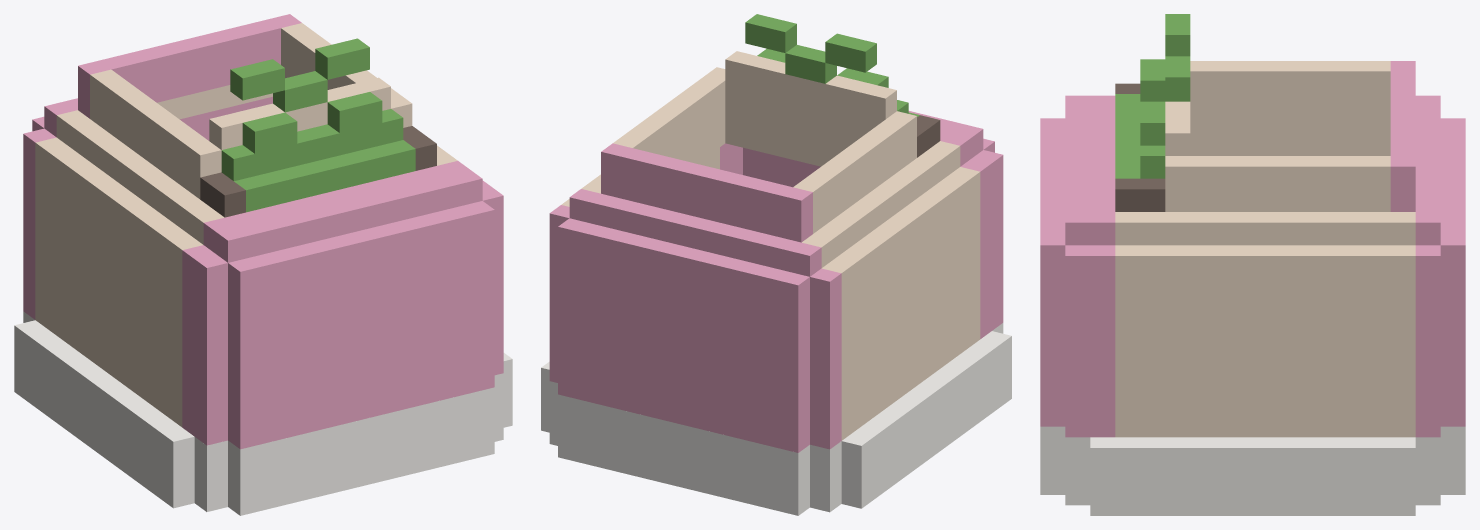
The model's file is angie-acc9.b2e07d89.glb.
3 renders of one model, left to right at view 1: azimuth 30°, elevation 25°; view 2: azimuth 150°, elevation 25°; view 3: azimuth 270°, elevation 25°, orthographic. The views are drawn at different scales.
Visible parts, largest first — view 1: puntera_talon, zapatilla, suela, cordones_brote, ojalillos; view 2: puntera_talon, zapatilla, suela, cordones_brote, ojalillos; view 3: zapatilla, puntera_talon, suela, cordones_brote, ojalillos.
Part boxes in pixels (x1,y1,x2,y2): puntera_talon: (23,14,503,449); zapatilla: (35,23,457,427); suela: (14,311,512,515); cordones_brote: (221,38,415,212); ojalillos: (200,126,436,217); puntera_talon: (549,111,1003,452); zapatilla: (561,51,980,440); suela: (541,323,1011,515); cordones_brote: (745,14,919,116); ojalillos: (917,115,940,157); zapatilla: (1115,61,1415,437); puntera_talon: (1040,61,1465,437); suela: (1040,426,1465,515); cordones_brote: (1115,14,1190,178); ojalillos: (1115,83,1165,211).
Size of the model in its own units: 0.288 by 0.306 by 0.306.
